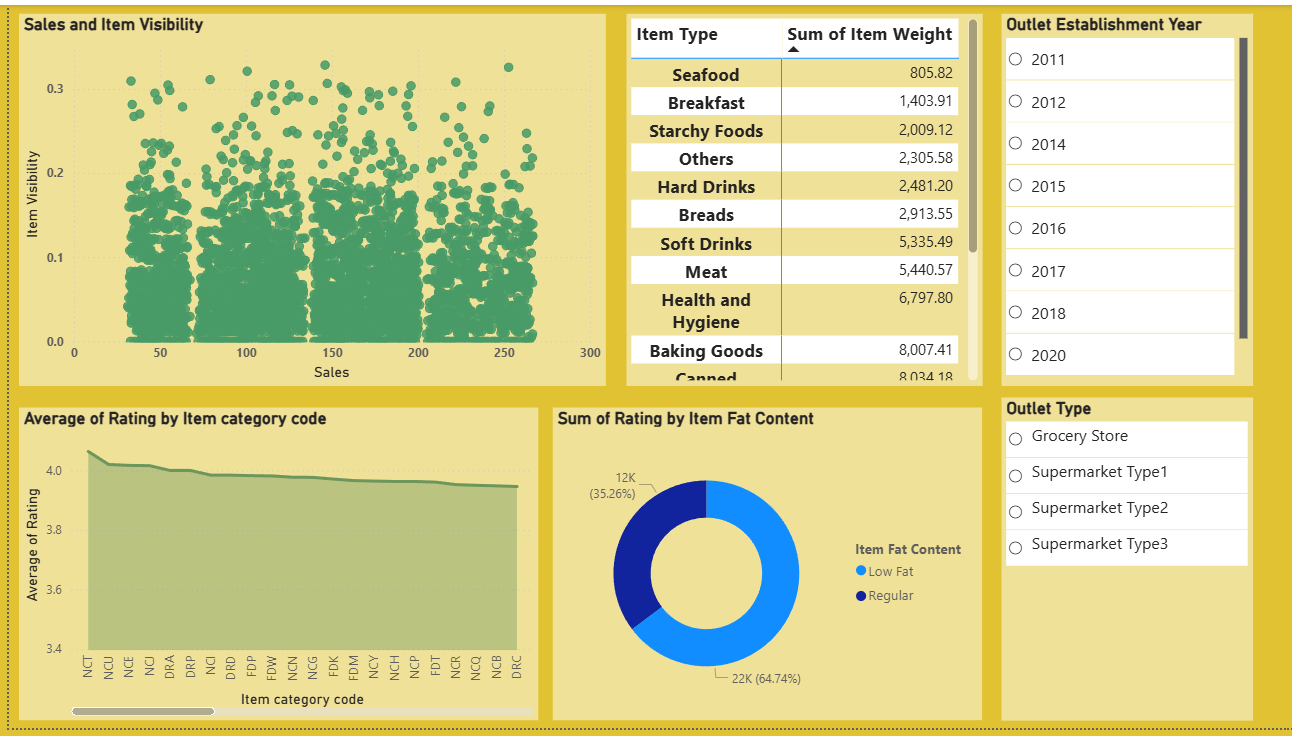

The dashboard page shown, as its layout file describes it:
{"tool":"powerbi","page":{"name":"Product Characteristics","canvas":[1280,720],"ordinal":2},"visuals":[{"type":"scatterChart","fields":{"X":["Blinkit Data.Sales"],"Y":["Blinkit Data.Item Visibility"]},"box":[10,8.6,584.3,370],"z":0},{"type":"areaChart","fields":{"Y":["Avg(Blinkit Data.Rating)"],"Category":["Blinkit Data.Item category code"]},"box":[10,400,517.1,311.4],"z":1000},{"type":"donutChart","fields":{"Y":["Sum(Blinkit Data.Rating)"],"Category":["Blinkit Data.Item Fat Content"]},"box":[541.4,400,427.1,311.4],"z":2000},{"type":"pivotTable","fields":{"Rows":["Blinkit Data.Item Type"],"Values":["Sum(Blinkit Data.Item Weight)"]},"box":[614.3,8.6,354.3,370],"z":3000},{"type":"listSlicer","fields":{"Values":["Blinkit Data.Outlet Type"]},"box":[987.1,390,250,321.4],"z":4000},{"type":"listSlicer","fields":{"Values":["Blinkit Data.Outlet Establishment Year"]},"box":[987.1,8.6,250,370],"z":5000}]}

Visuals, with their boxes in screenshot pixels (x1, y1, x2, y2), scaled from the page's 1280x720 canvas onto the 1292x736 screenshot:
scatterChart - Blinkit Data.Sales x Blinkit Data.Item Visibility: bbox=(10, 9, 600, 387)
areaChart - Avg(Blinkit Data.Rating) x Blinkit Data.Item category code: bbox=(10, 409, 532, 727)
donutChart - Sum(Blinkit Data.Rating) x Blinkit Data.Item Fat Content: bbox=(546, 409, 978, 727)
pivotTable - Blinkit Data.Item Type x Sum(Blinkit Data.Item Weight): bbox=(620, 9, 978, 387)
listSlicer - Blinkit Data.Outlet Type: bbox=(996, 399, 1249, 727)
listSlicer - Blinkit Data.Outlet Establishment Year: bbox=(996, 9, 1249, 387)
